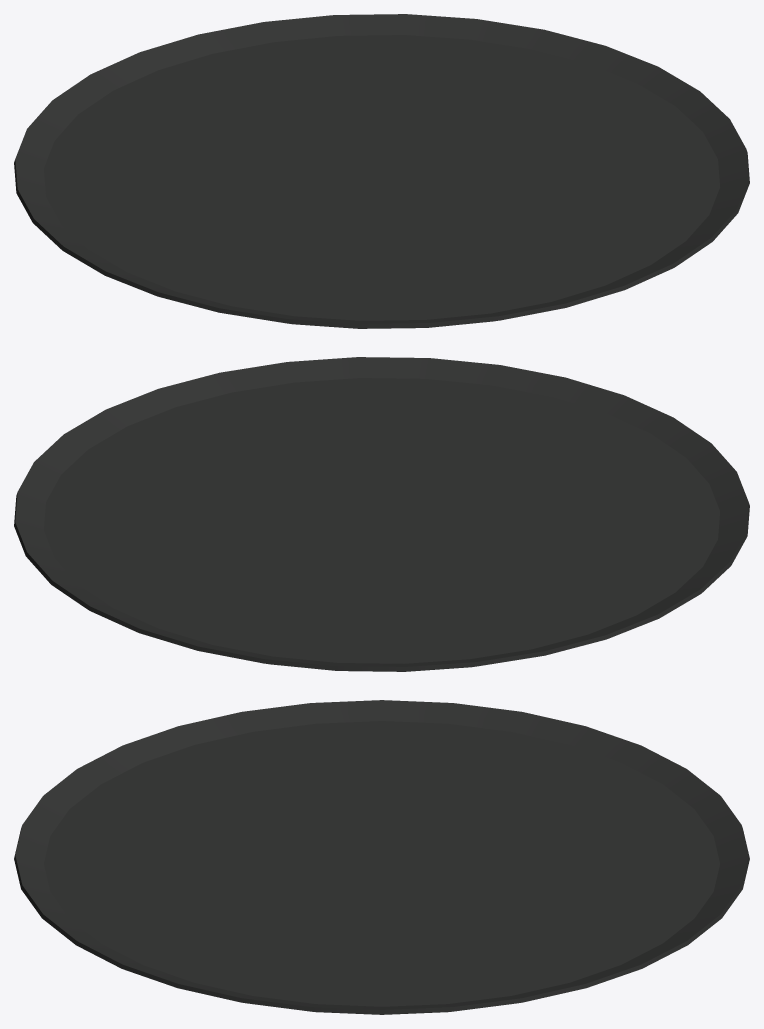
The model's file is p6_bar_drink_tray_lod0.glb.
3 renders of one model, top to bottom at view 1: azimuth 30°, elevation 25°; view 2: azimuth 150°, elevation 25°; view 3: azimuth 270°, elevation 25°, orthographic.
Parts seen in each view (by area): view 1: surf0, surf1; view 2: surf0, surf1; view 3: surf0, surf1.
Boxes of the visible parts, left/top/right/bottom form: surf0: left=44, top=35, right=719, bottom=320; surf1: left=14, top=14, right=749, bottom=328; surf0: left=44, top=378, right=719, bottom=663; surf1: left=14, top=357, right=749, bottom=671; surf0: left=44, top=721, right=719, bottom=1006; surf1: left=14, top=700, right=749, bottom=1014.
Bounding box in the file's own units: 17.02 × 0.3491 × 17.02.
